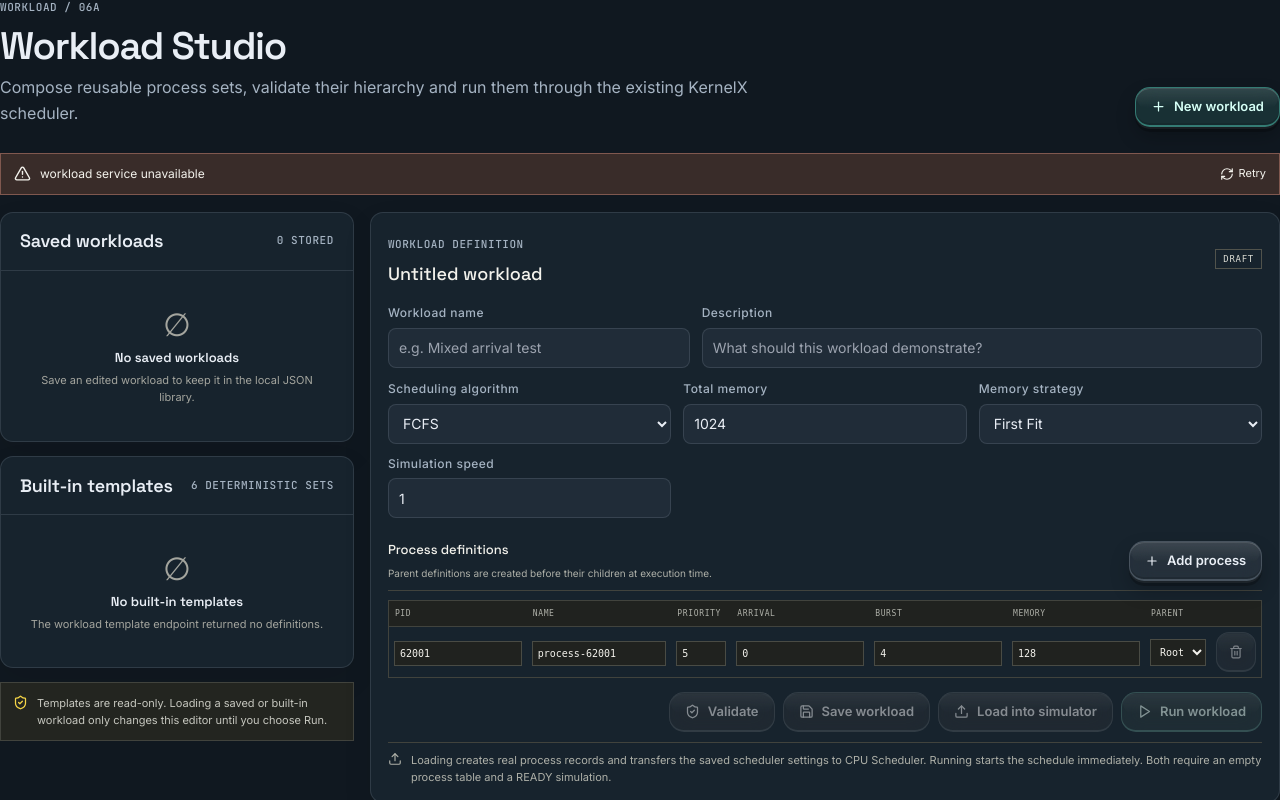
it: Workload Studio › shows an empty library and a retryable API error
Expected: the text "No saved workloads" is shown, [115,349,239,366]
Expected: the text "No built-in templates" is shown, [111,593,243,610]
What coordinates should you click on to do the following:
click the button "Retry"
I would click on:
 (1243, 174)
Its box is [1220,165,1266,182].
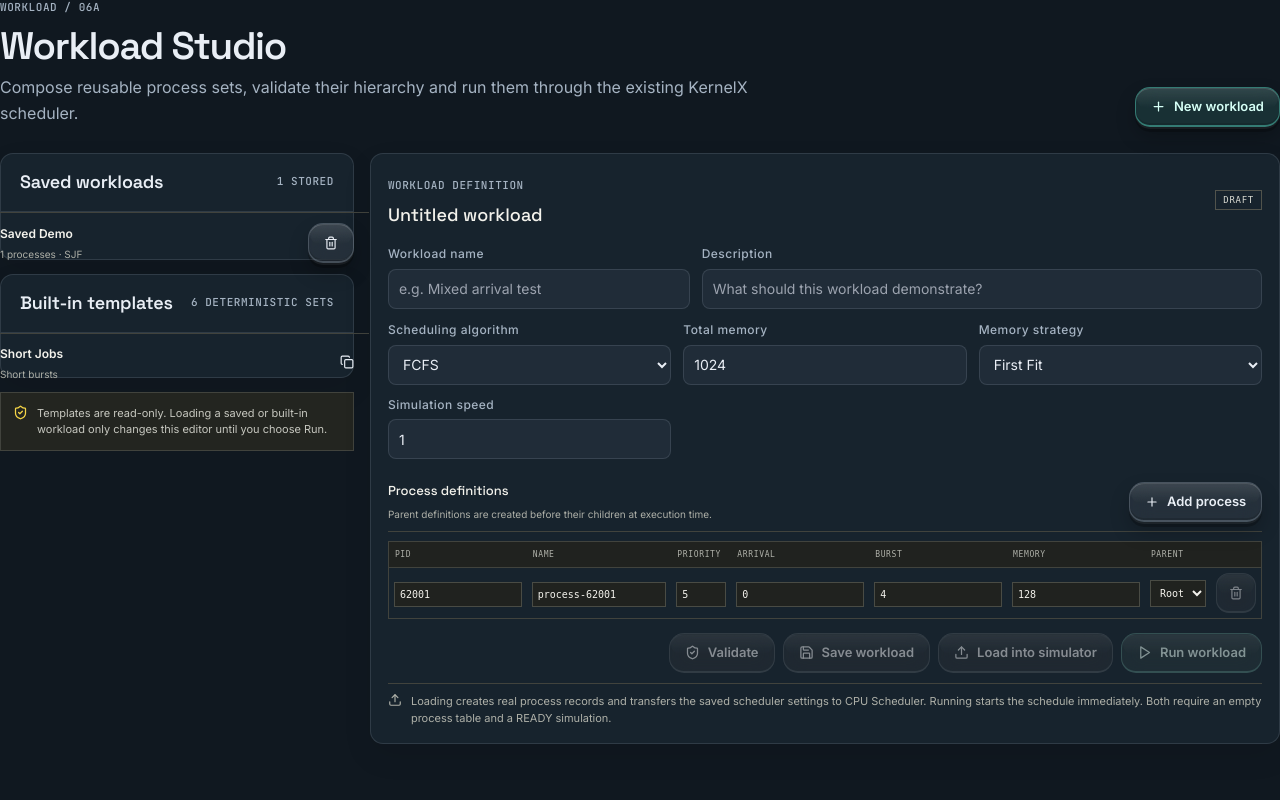
Now the text "Saved Demo" is shown, box [0,226,73,241]
